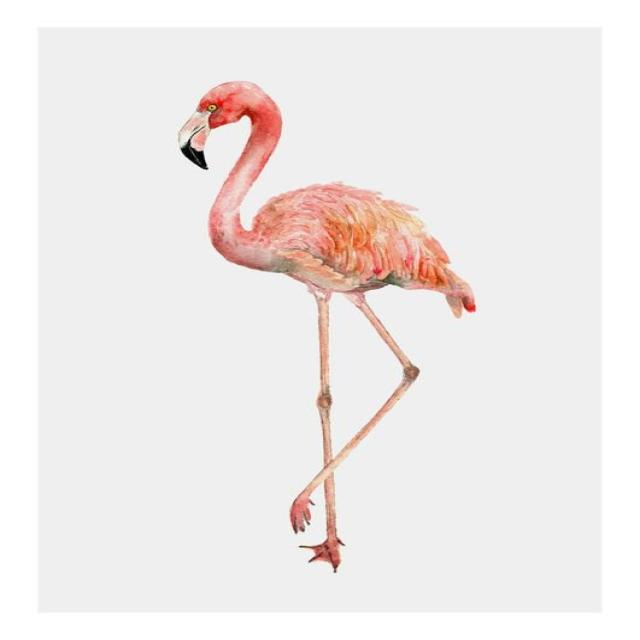Flamingo: (171, 74, 472, 572)
